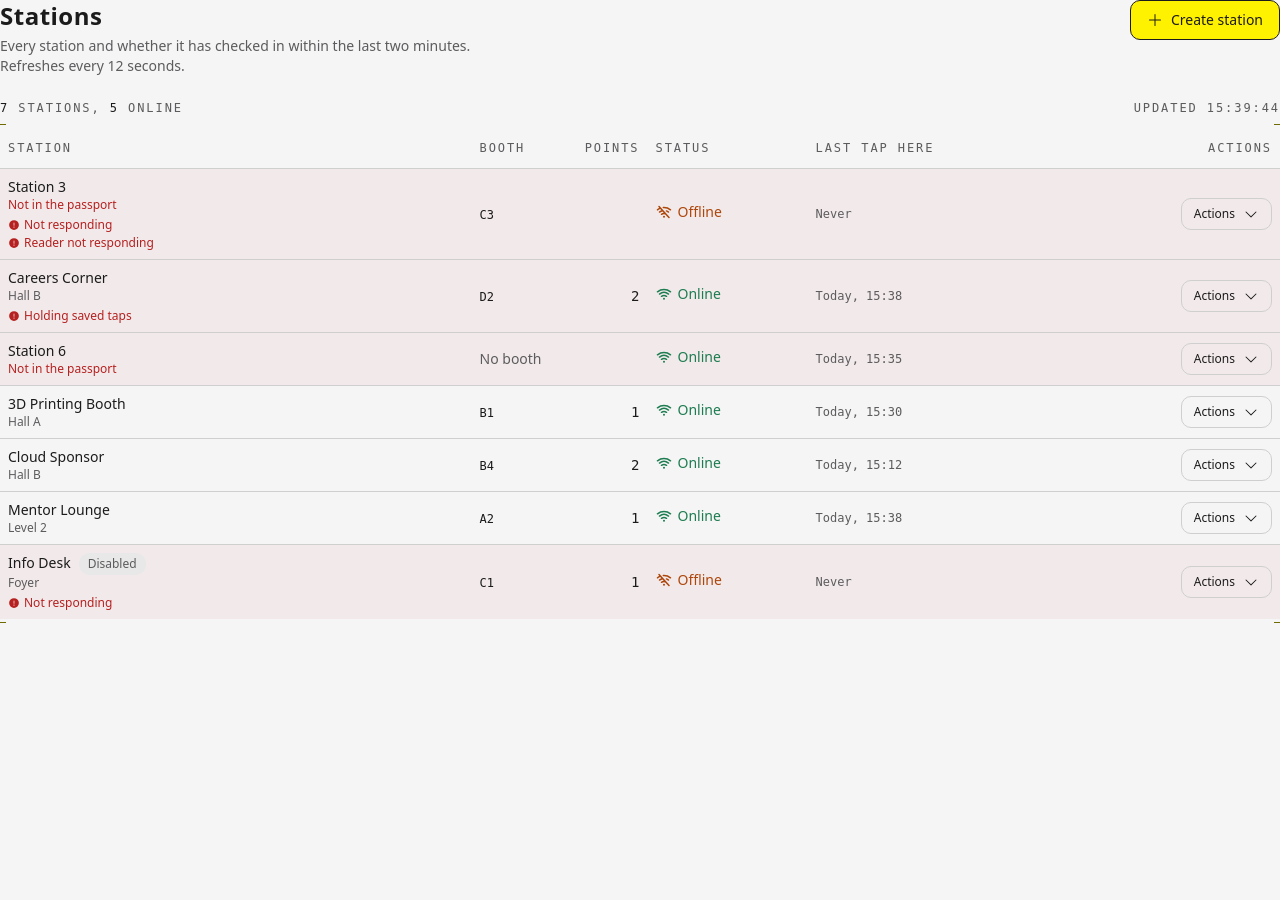
Test: a station board dialog returns focus to its row (FRO-99) › puts it on the same button, renamed, after a passport save
Click the button "Actions" in the row of "Station 6". click: click(1226, 358)
box: [1181,342,1272,374]
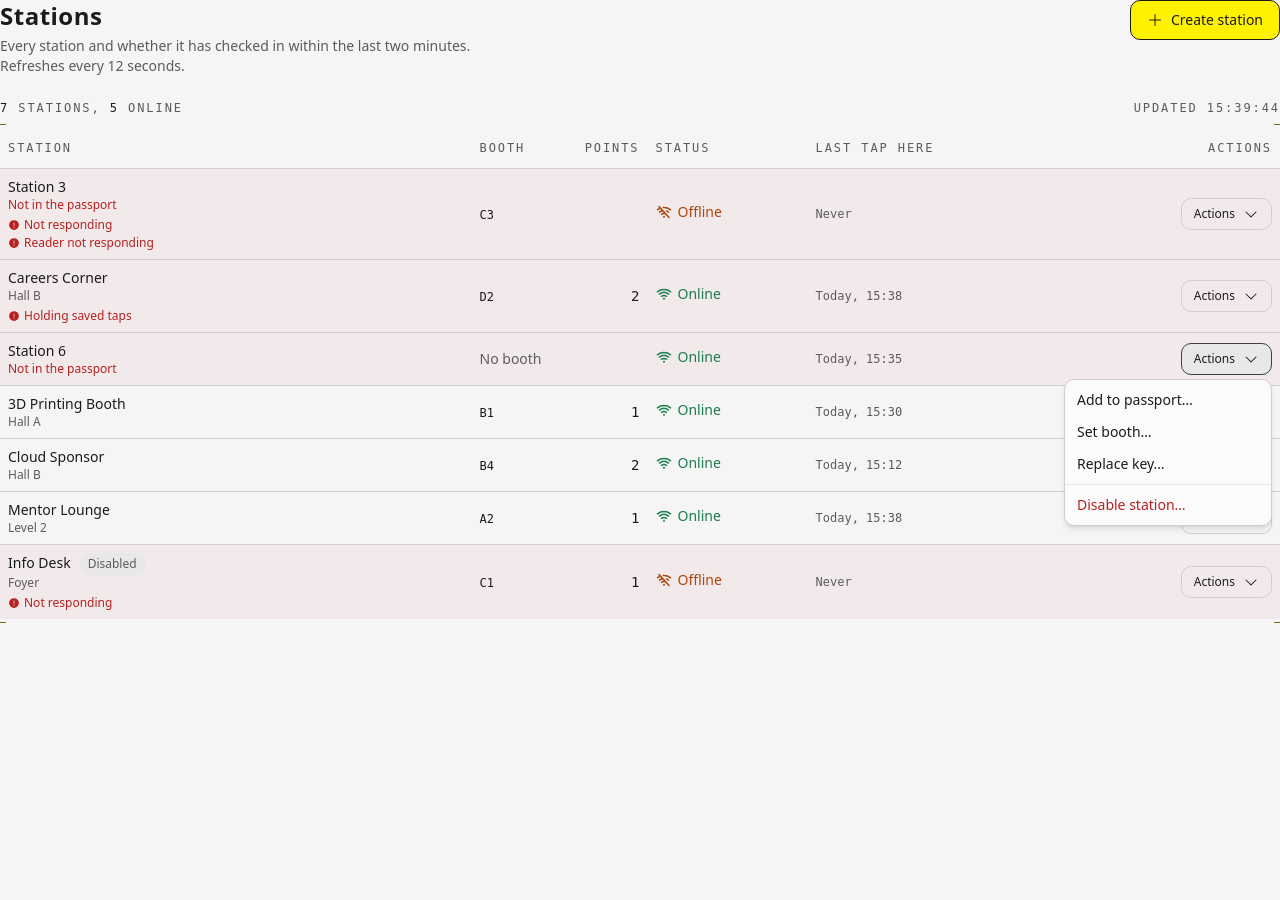
Check: the menu is shown, box [1064,379,1272,526]
Click the menu item "Add to passport…". click: click(1135, 400)
box: [1077,390,1193,409]
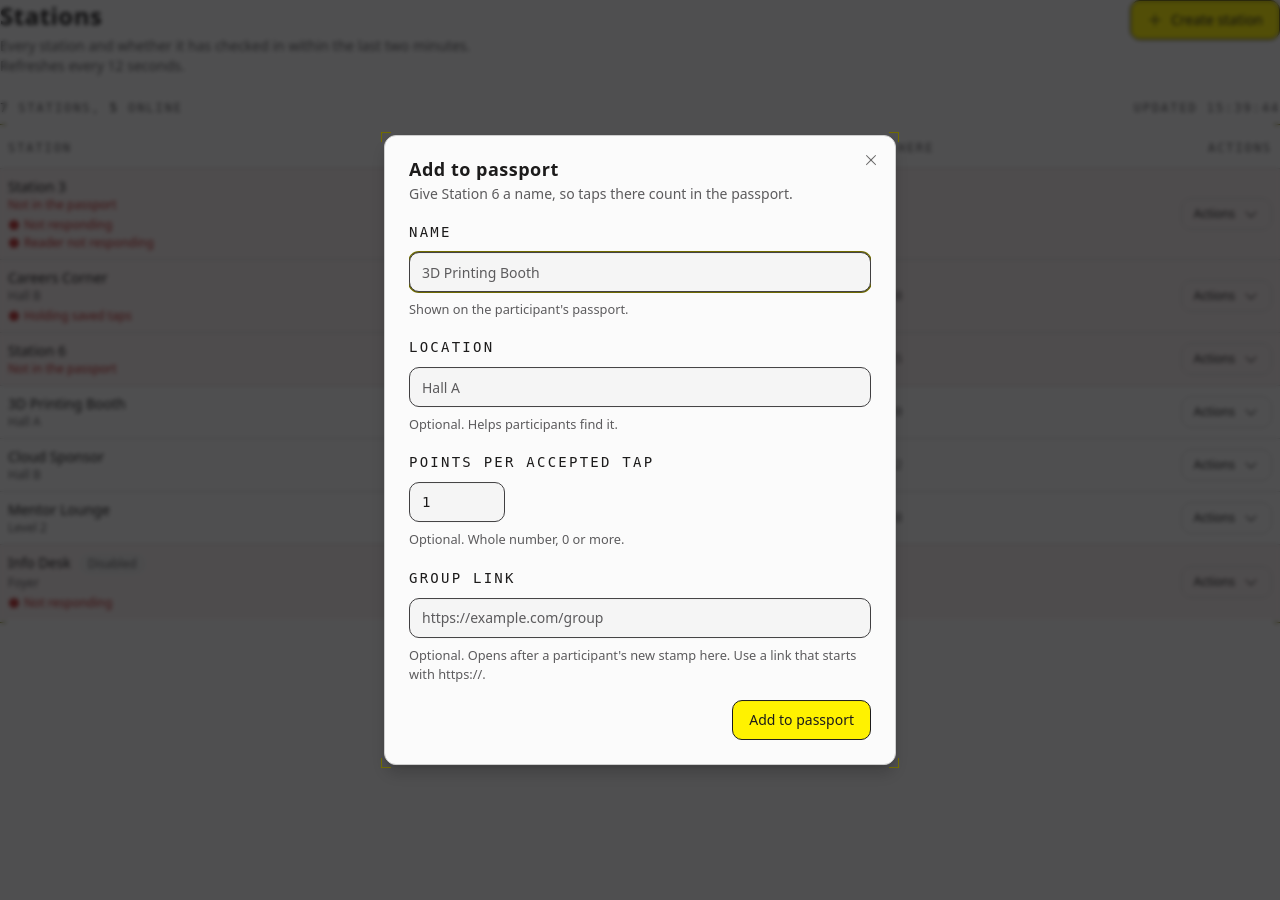
Type "Photo Wall" into the field labelled "Name". click: (640, 272)
box: [409,252,871,292]
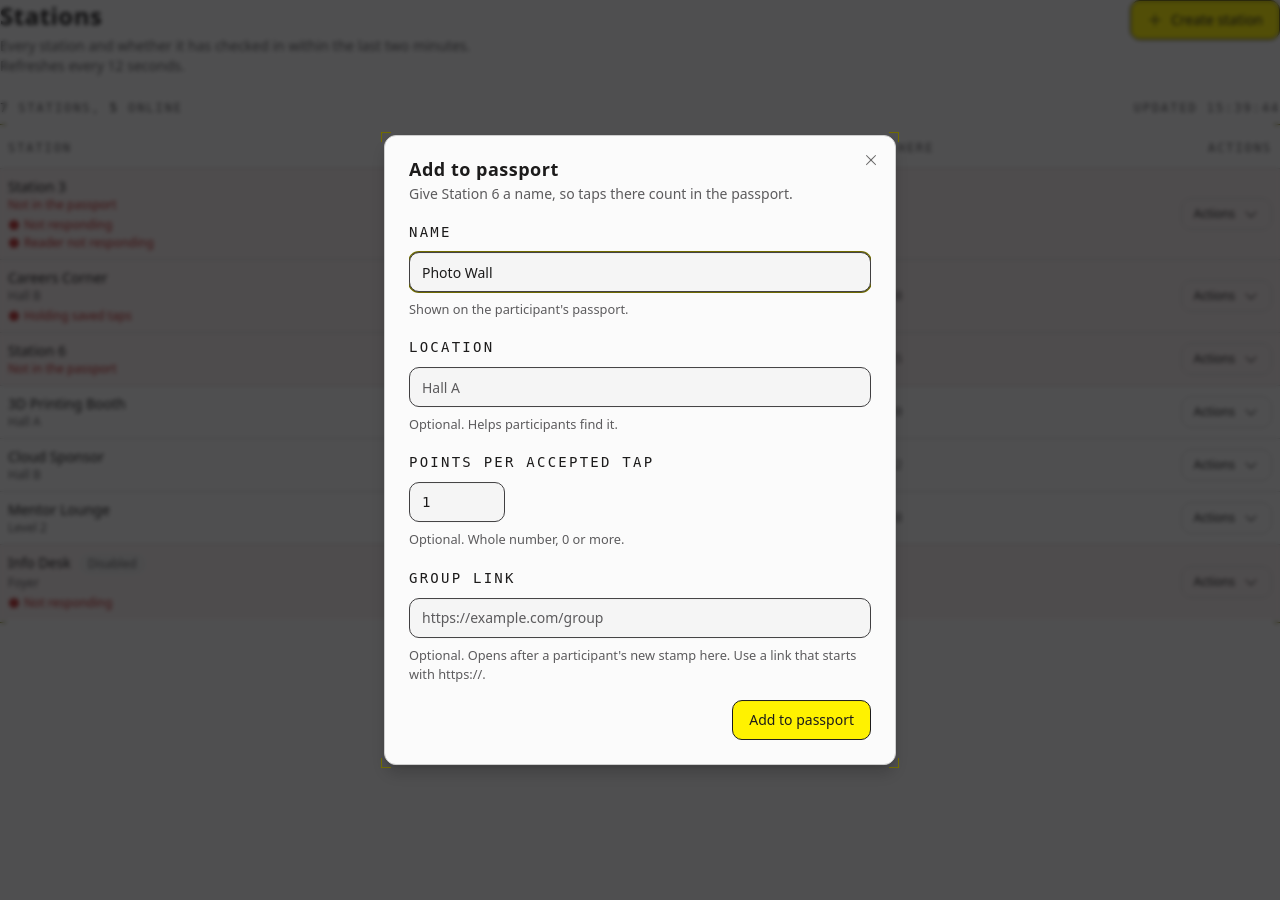
Click the button "Add to passport". click: click(802, 720)
box: [732,700,871,740]
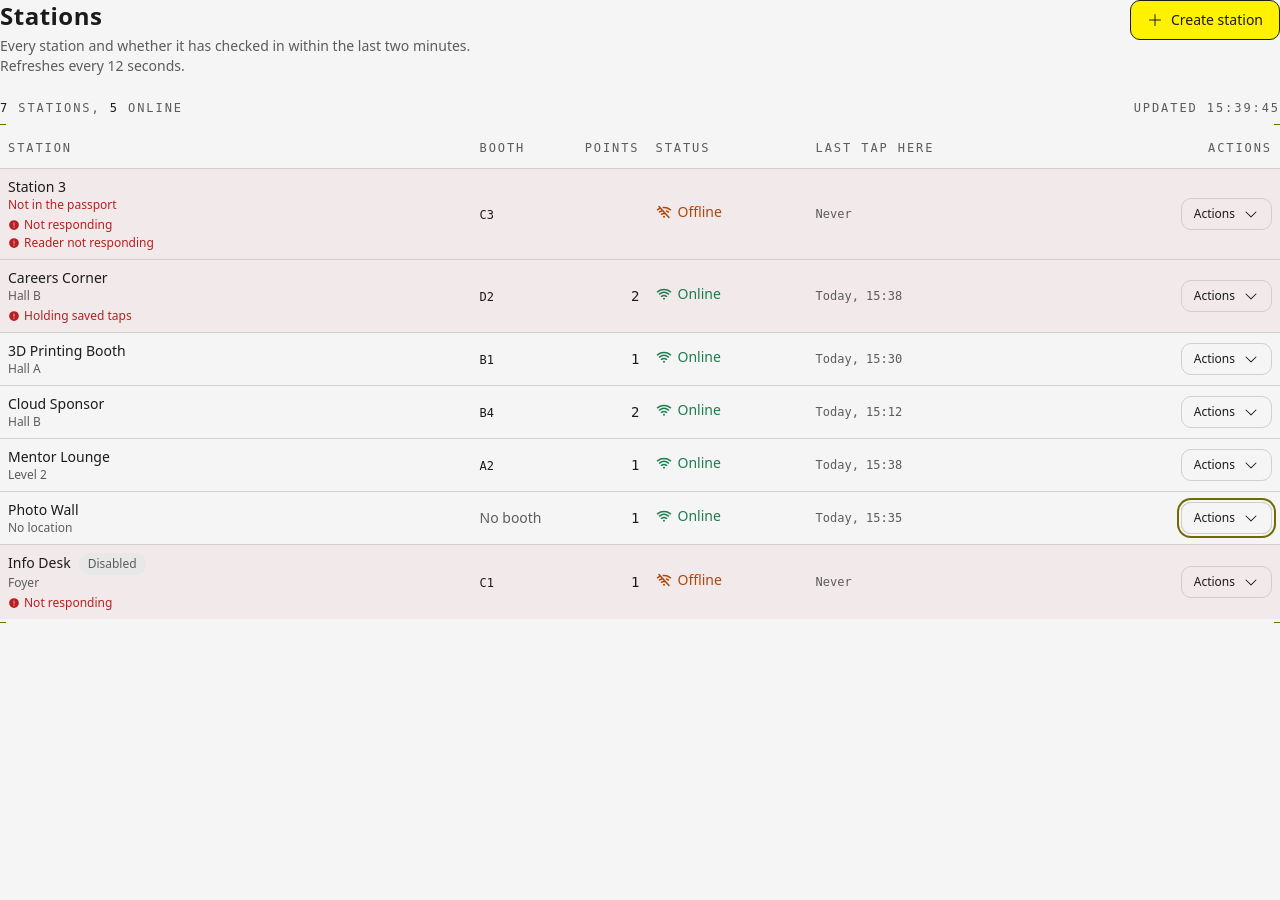
Check: the button with aria-label "Actions for Photo Wall" is shown, box [1181,502,1272,534]
